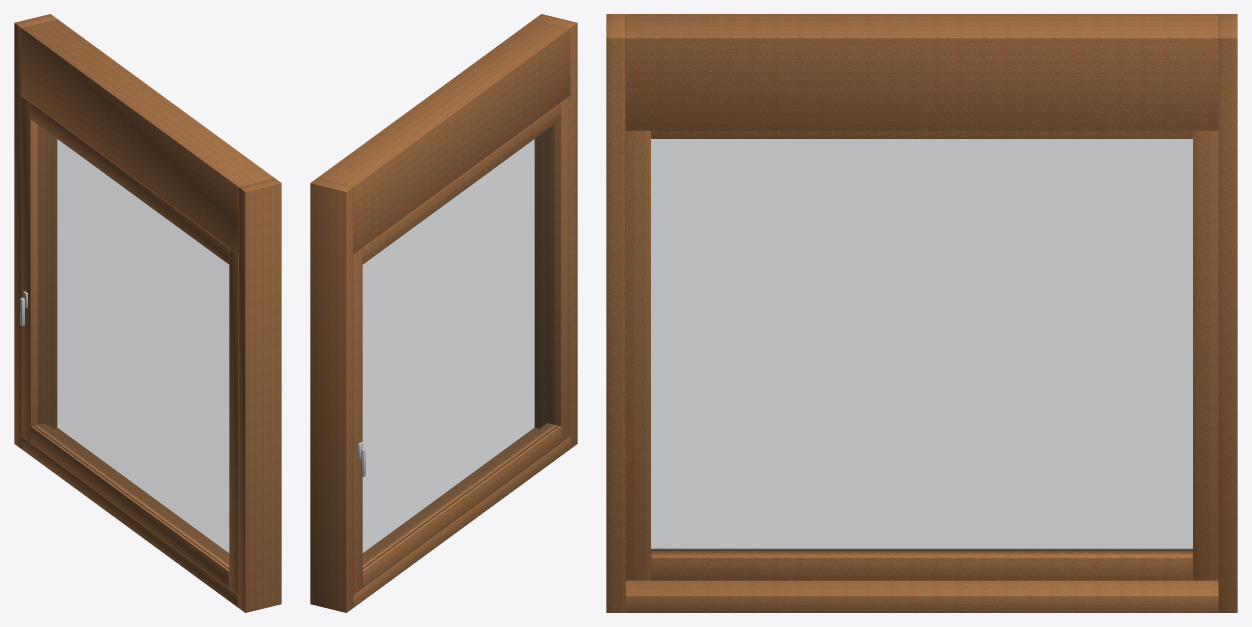
File: recKlFERfQu5qNxWi.glb
The picture shows the model from 3 angles, left to right: view 1: azimuth 30°, elevation 25°; view 2: azimuth 150°, elevation 25°; view 3: azimuth 270°, elevation 25°; orthographic projection. The views are drawn at different scales.
Visible parts, largest first — view 1: fenetre_salon_grande__ouvrant, fenetre_salon_grande__cadre; view 2: fenetre_salon_grande__ouvrant, fenetre_salon_grande__cadre; view 3: fenetre_salon_grande__ouvrant, fenetre_salon_grande__cadre.
Boxes of the visible parts, <box> form: fenetre_salon_grande__ouvrant: <box>20,96,238,594</box>; fenetre_salon_grande__cadre: <box>14,14,281,612</box>; fenetre_salon_grande__ouvrant: <box>353,96,570,594</box>; fenetre_salon_grande__cadre: <box>310,14,577,612</box>; fenetre_salon_grande__ouvrant: <box>625,130,1218,580</box>; fenetre_salon_grande__cadre: <box>606,14,1237,612</box>.
Bounding box in the file's own units: 0.21 × 1.98 × 1.98.
Materials: 4 (2 with a texture image).
